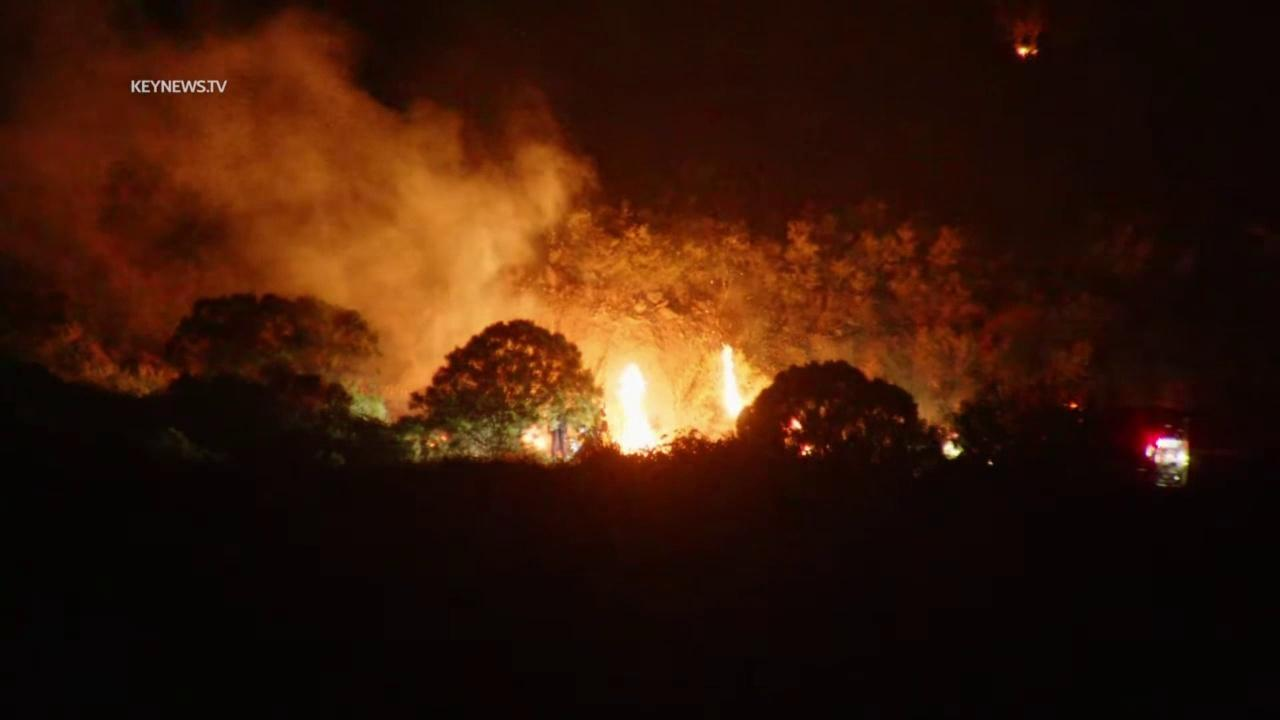fire: (605, 362, 664, 460), (714, 338, 747, 422), (519, 426, 554, 457), (937, 426, 961, 442), (785, 415, 806, 433), (1012, 46, 1041, 56), (1068, 401, 1081, 411), (799, 448, 809, 458)
smoke: (0, 0, 605, 427), (990, 1, 1050, 47)
